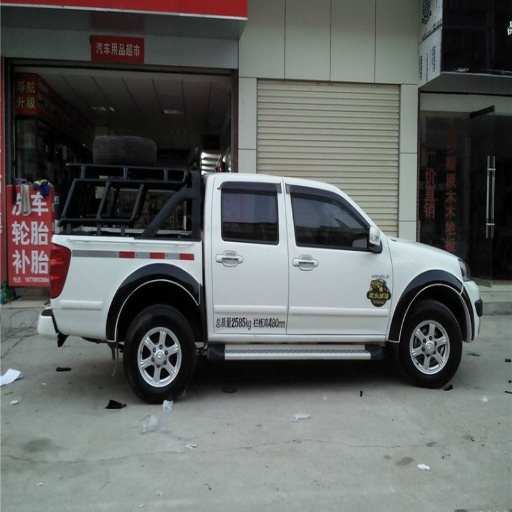back_right_door: (214, 181, 285, 334)
trunk: (53, 240, 202, 339)
